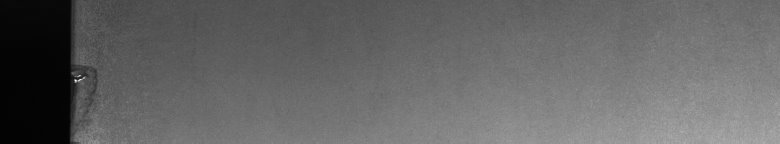hb: (80, 28, 108, 136)
